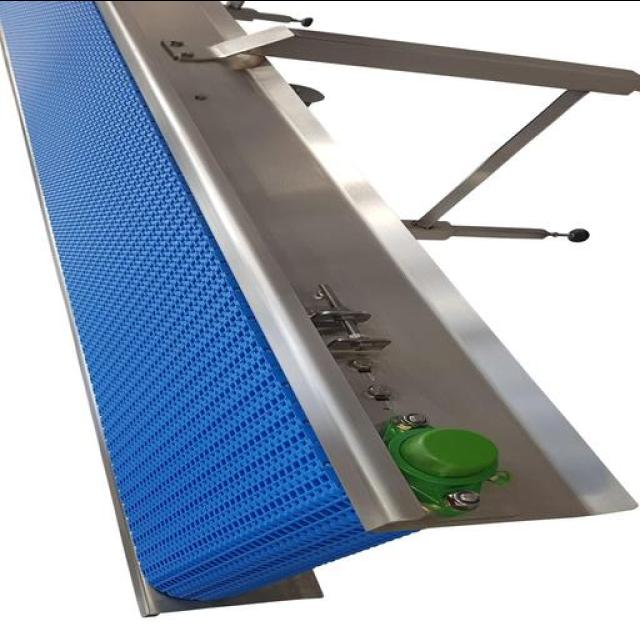conveyor: (0, 0, 416, 601)
